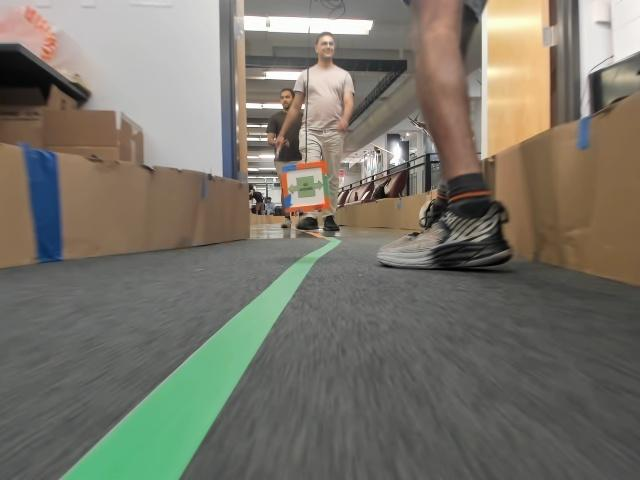Go Around: (286, 178, 320, 198)
